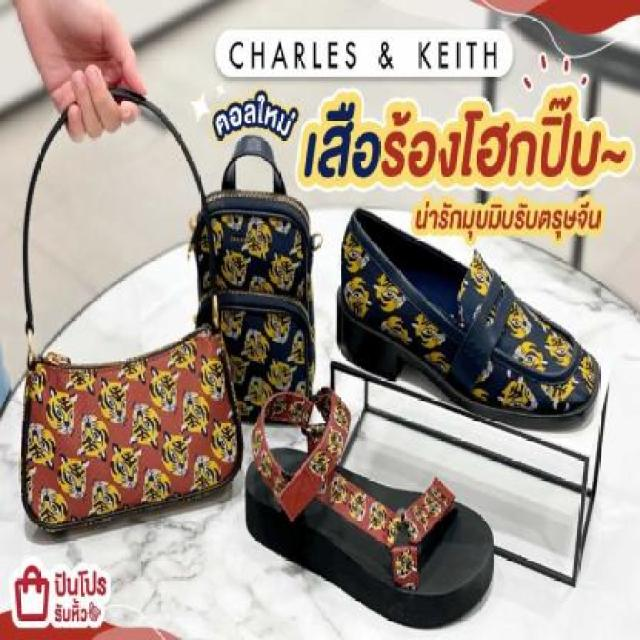Bag: (0, 52, 254, 525), (177, 128, 338, 429)
